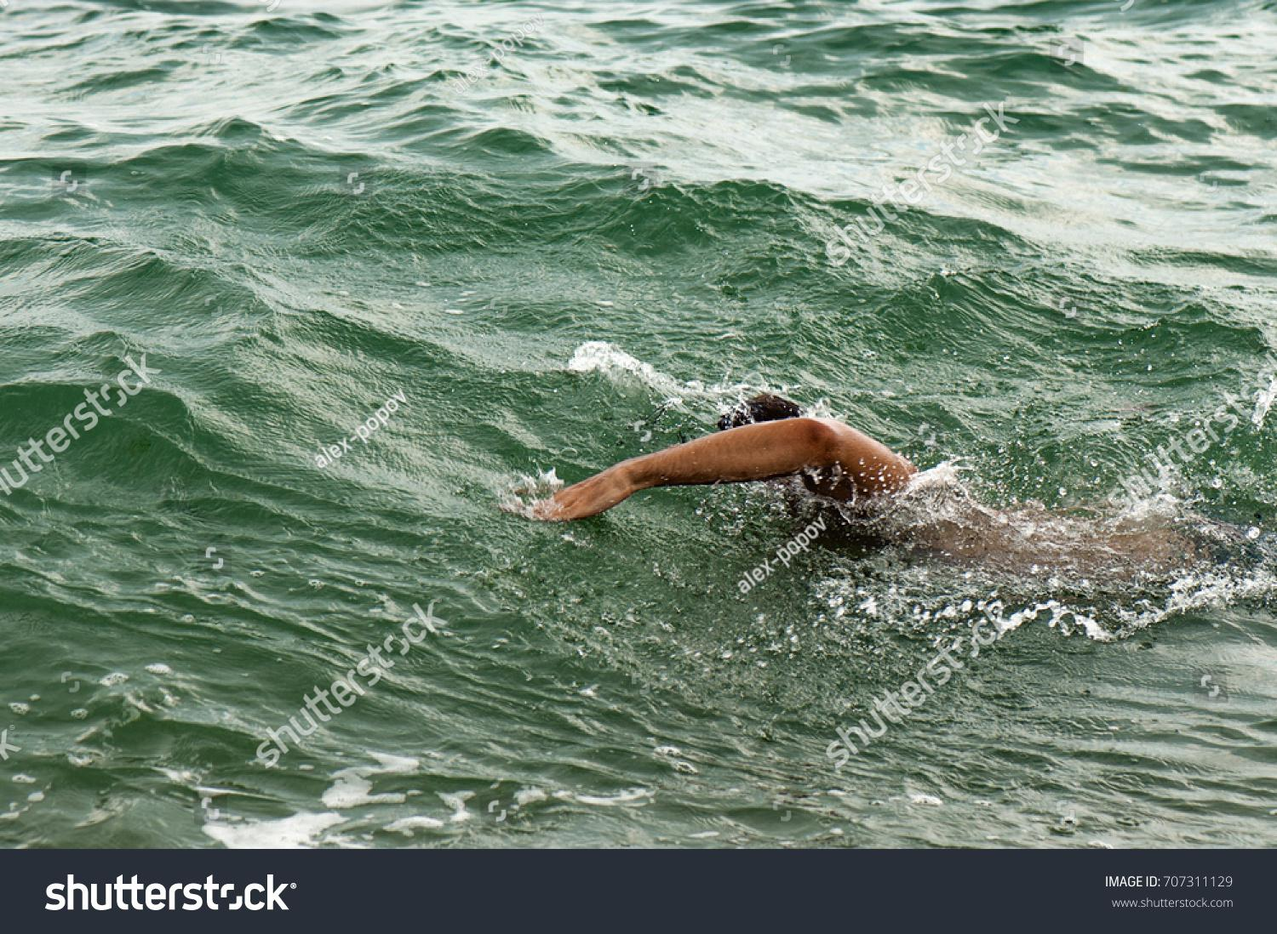swimmer: (518, 387, 982, 552)
